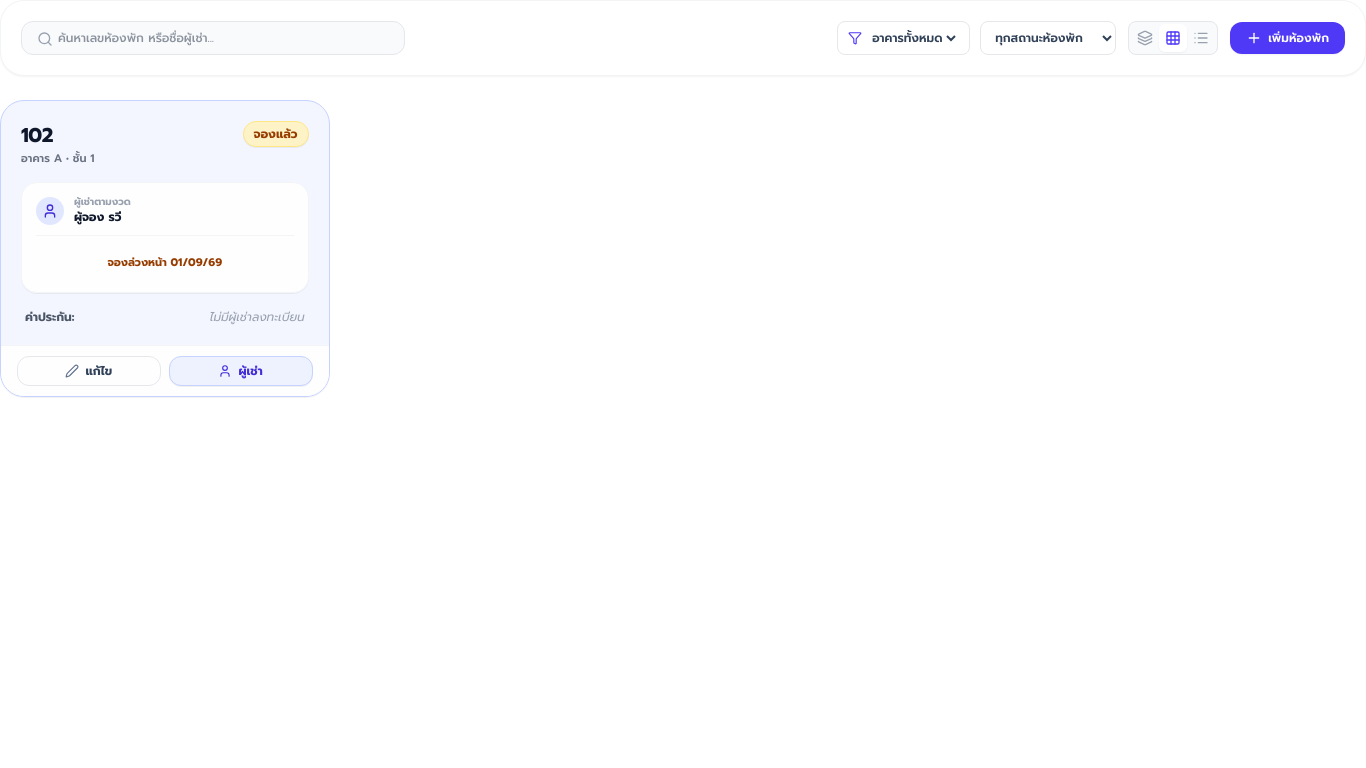
Test: OWNER ROOMS R2 & R2.1 — Rent-Cycle Deposit Model & Hardened Specifications › OWNER ROOMS R3.4a — Canonical Maintenance Eligibility & Presentation Order › T2 — Current maintenance eligibility DTO drives modal disabling independent of selected cycle
Click the button titled "แก้ไขรายละเอียดห้องพัก": (89,371) 17,356 -> 161,386
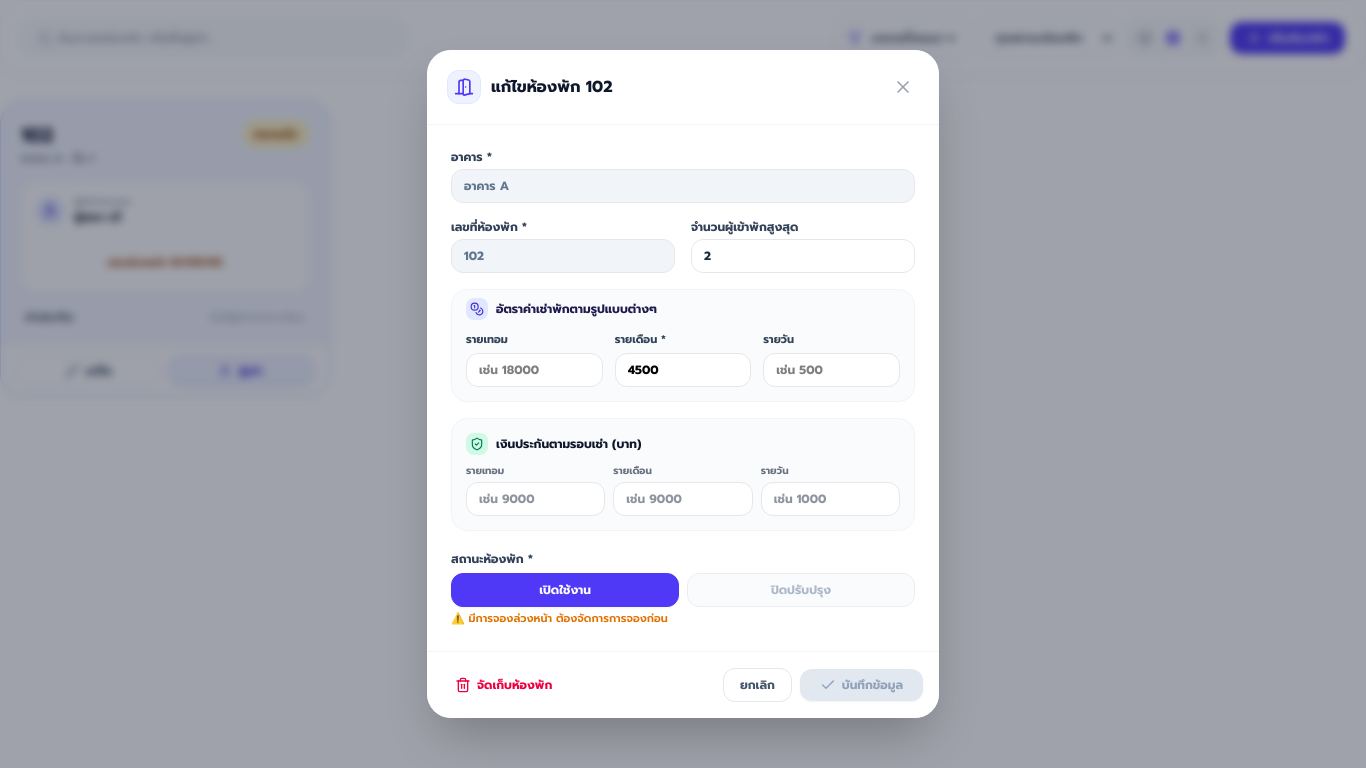
Now the button titled "มีการจองล่วงหน้า ต้องจัดการการจองก่อน" is disabled, box 687,572 -> 915,606
